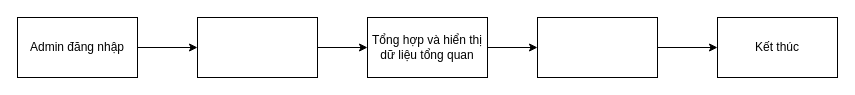
This 855x95 diagram has some shape labels left out. The shapes that lost their labels are listed below. From the top down, each one's centre as x and y in pixels, then its label:
At (x=257, y=47): "Hệ thống chuyển qua trang Dashboard".
At (x=597, y=47): "Admin theo dõi".
